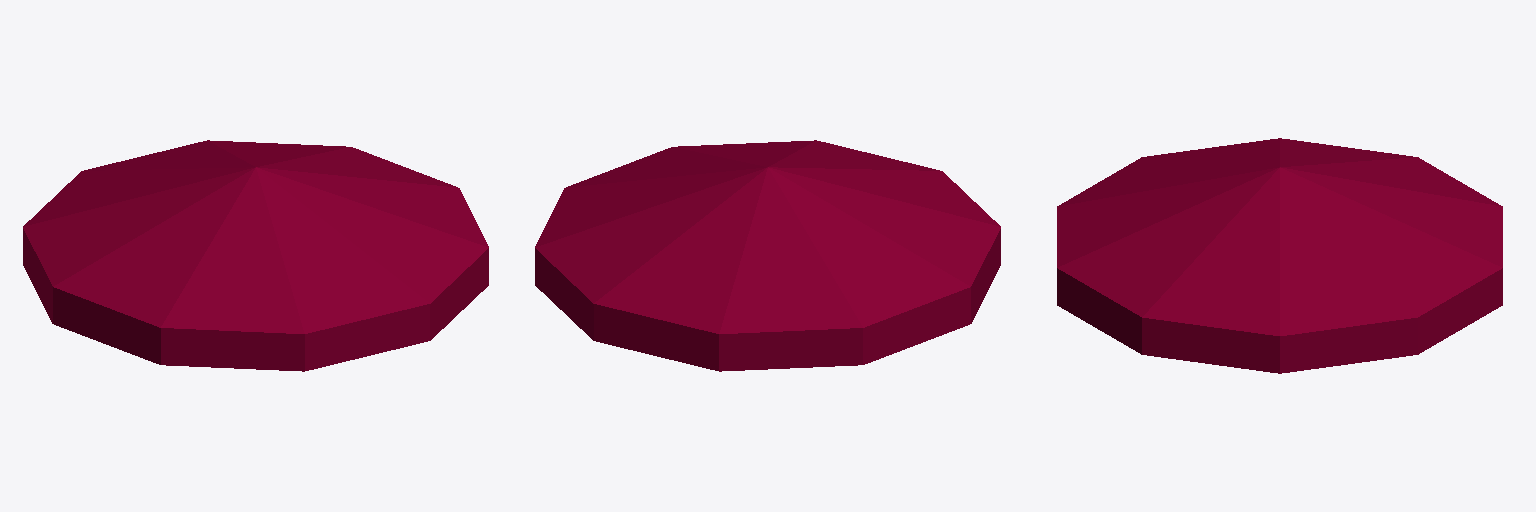
Rendered from kuti_spindle.obj.
3 views of the same model, side by side, from view 1: azimuth 30°, elevation 25°; view 2: azimuth 150°, elevation 25°; view 3: azimuth 270°, elevation 25° (orthographic).
Parts seen in each view (by area): view 1: Spindle001; view 2: Spindle001; view 3: Spindle001.
Boxes of the visible parts, box(x1,y1,x2,y2) form: Spindle001: box(23, 140, 488, 371); Spindle001: box(535, 140, 1000, 371); Spindle001: box(1057, 138, 1502, 373).
Size of the model in its own units: 12 by 5 by 11.41.